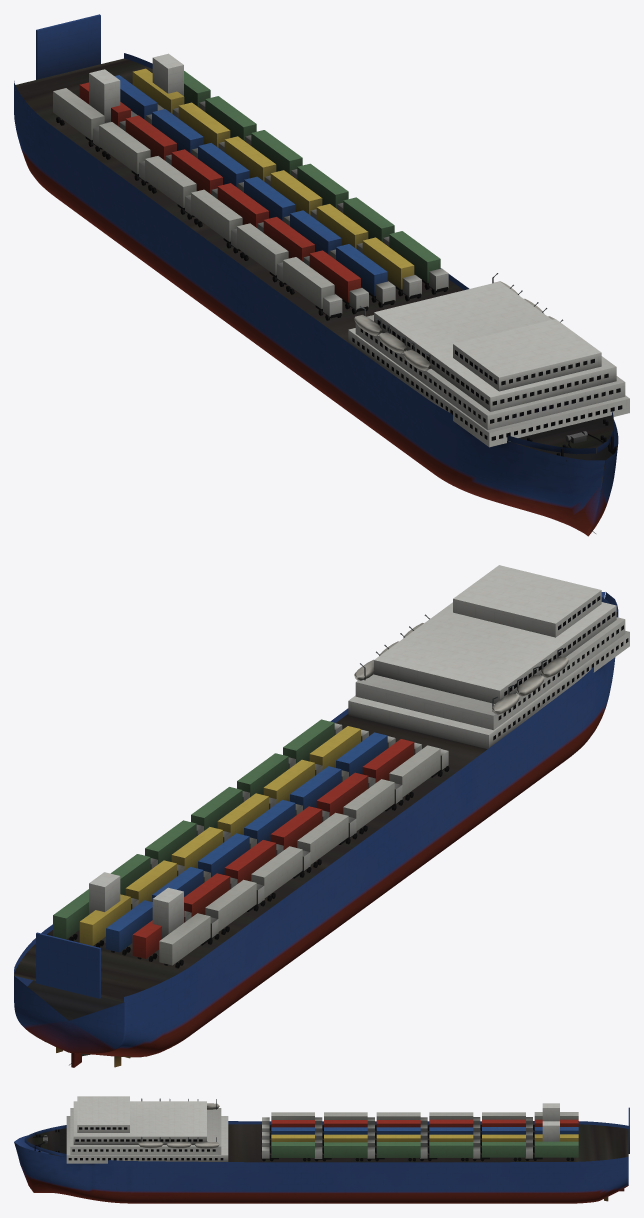
Rendered from model_built.glb.
3 renders of one model, top to bottom at view 1: azimuth 30°, elevation 25°; view 2: azimuth 150°, elevation 25°; view 3: azimuth 270°, elevation 25°, orthographic. The views are drawn at different scales.
Visible parts, largest first — view 1: main; view 2: main; view 3: main.
Boxes of the visible parts, bbox=[...] form: main: bbox=[14, 14, 629, 536]; main: bbox=[14, 565, 629, 1067]; main: bbox=[14, 1096, 629, 1203].
Bounding box in the file's own units: 28.44 × 25.85 × 175.
Materials: 1 (1 with a texture image).
